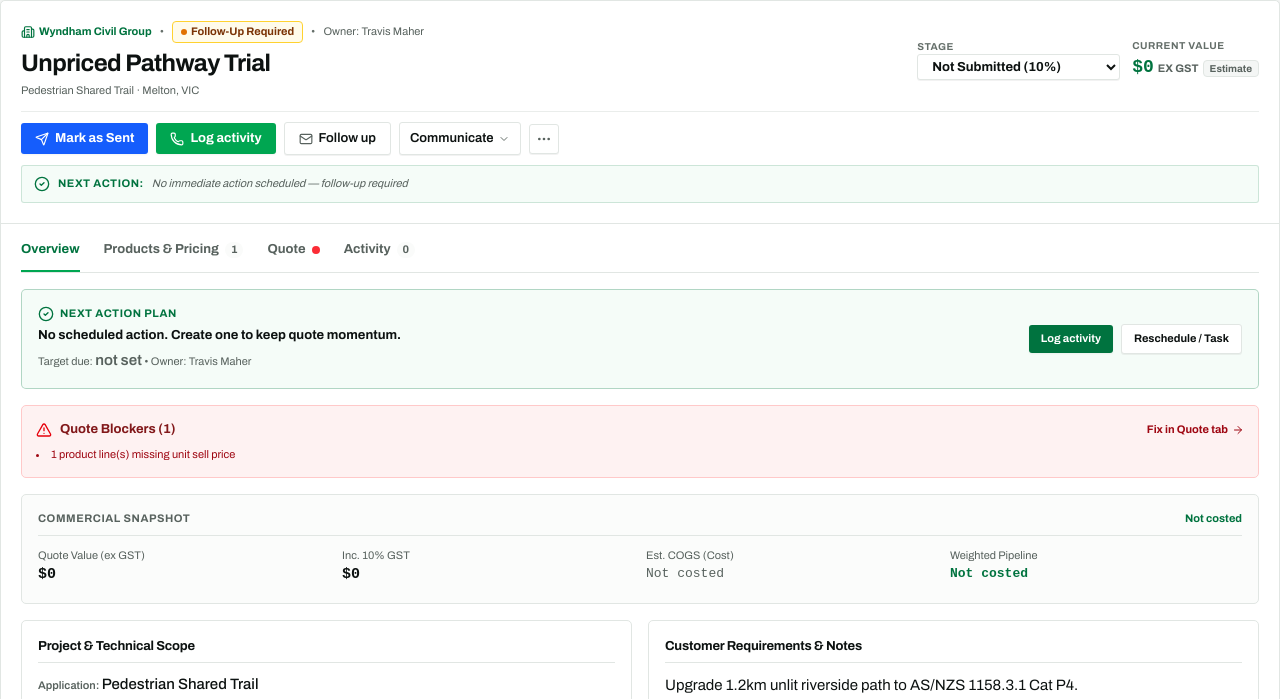
CRMDealDetailsWorkspace Component › Test 5 — flags missing price in Products & Pricing and reacts in Quote readiness
// Switch to Products & Pricing
Click the button "Products & Pricing 1" at x=174, y=256, box [104,240,244,272]
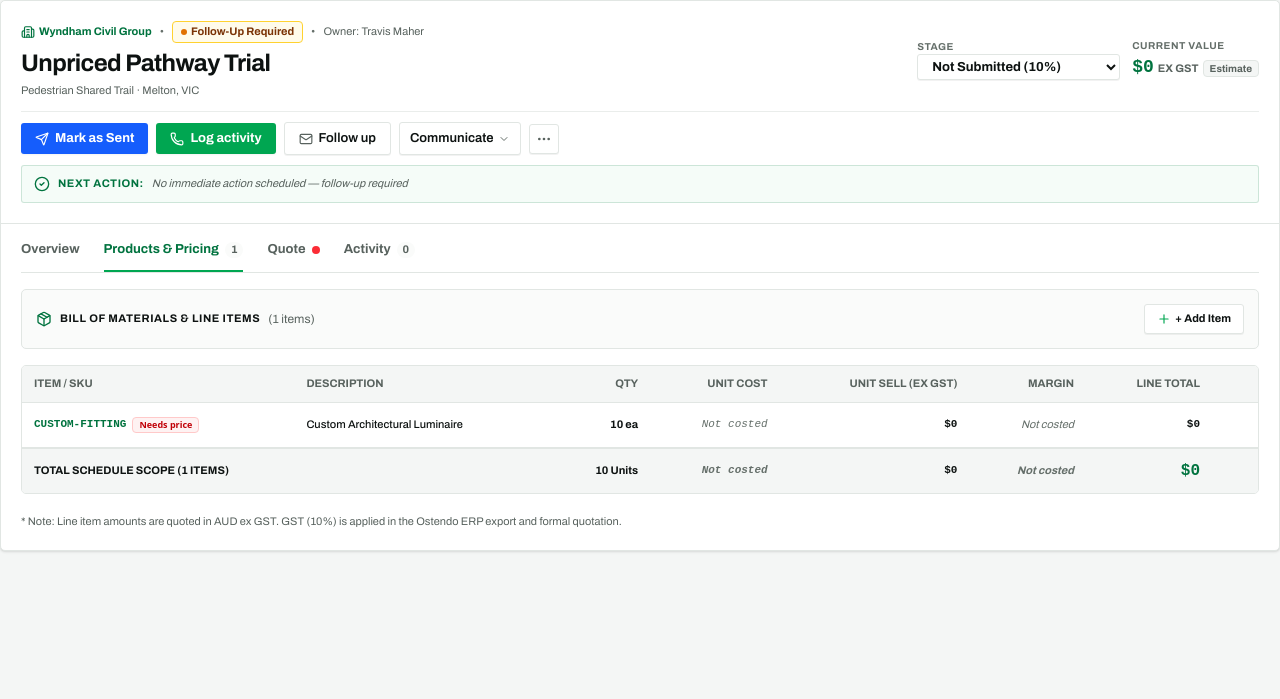
Check: the text "Needs price" is shown, box [132,418,199,432]
// Switch to Quote tab
Click the button "Quote" at x=294, y=256, box [268,240,320,272]
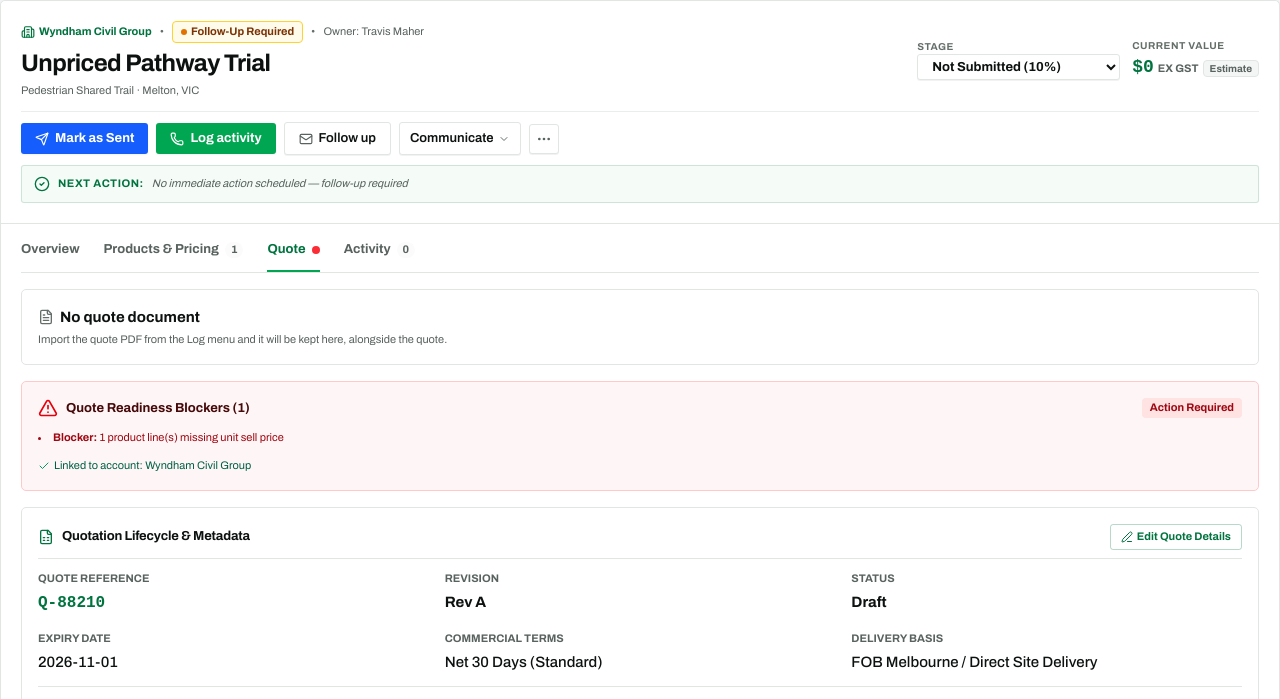
Check: the text "Quote Readiness Blockers (1)" is shown, box [66,399,250,418]
Check: the list item "Blocker: 1 product line(s) missing unit sell price" is shown, box [53,431,284,443]
